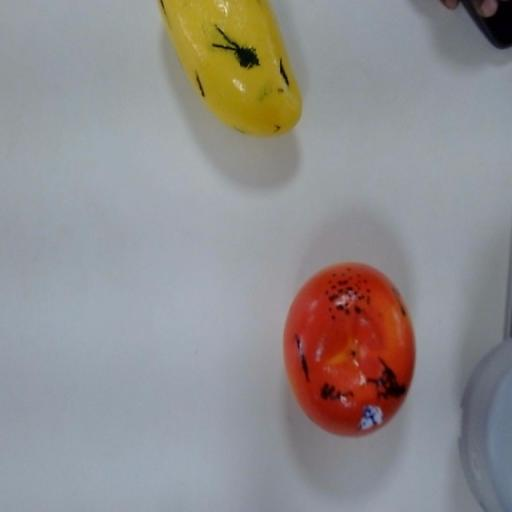Defective: (279, 258, 421, 442), (159, 1, 309, 141)
